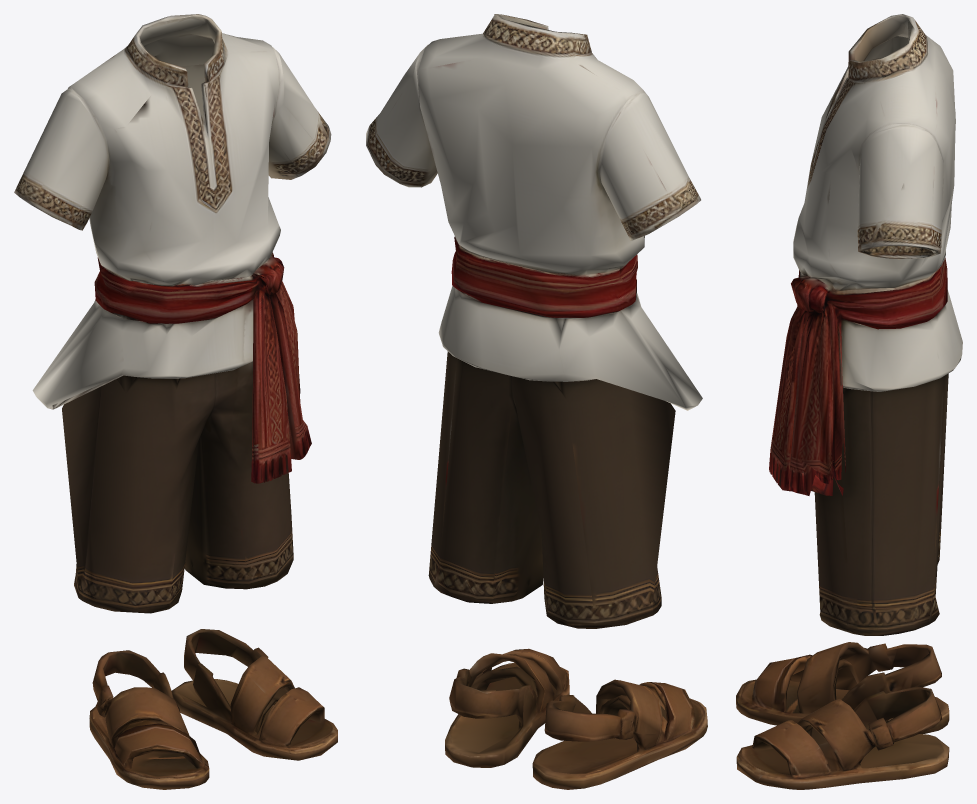
Rendered from outfit_male.glb.
The picture shows the model from 3 angles, left to right: view 1: azimuth 30°, elevation 25°; view 2: azimuth 150°, elevation 25°; view 3: azimuth 270°, elevation 25°; orthographic projection. The views are drawn at different scales.
Visible parts, largest first — view 1: outfit_male; view 2: outfit_male; view 3: outfit_male.
Part boxes in pixels (x1,y1,x2,y2): outfit_male: [14, 14, 337, 789]; outfit_male: [366, 14, 707, 789]; outfit_male: [736, 14, 962, 789].
Size of the model in its own units: 0.5256 by 1.14 by 0.3293.
1 material, 1 textured.
